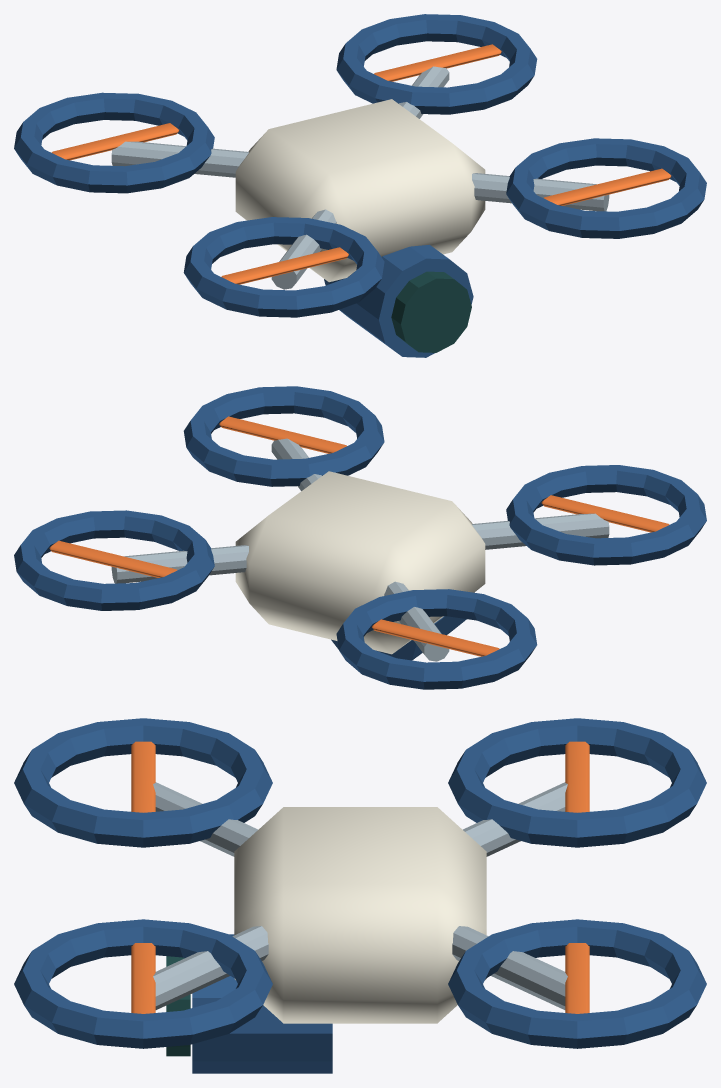
Rendered from Camera_Drone.glb.
3 renders of one model, top to bottom at view 1: azimuth 30°, elevation 25°; view 2: azimuth 150°, elevation 25°; view 3: azimuth 270°, elevation 25°, orthographic. The views are drawn at different scales.
Visible parts, largest first — view 1: Camera_Drone; view 2: Camera_Drone; view 3: Camera_Drone.
Part boxes in pixels (x1,y1,x2,y2): Camera_Drone: (14, 14, 706, 357); Camera_Drone: (14, 386, 706, 689); Camera_Drone: (14, 718, 706, 1073).
Size of the model in its own units: 1.05 by 0.35 by 0.99.
